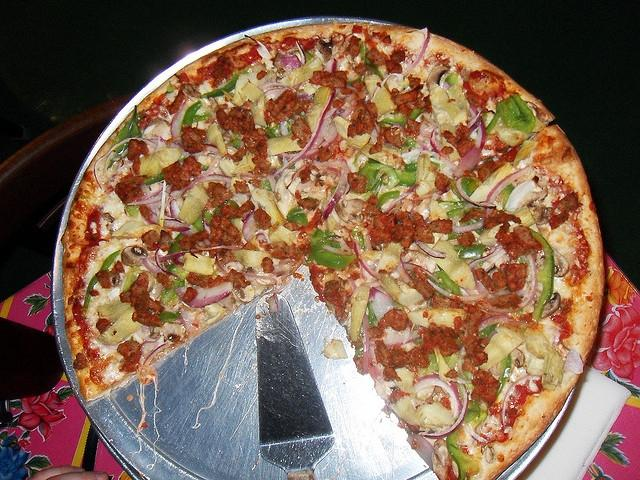onion: (260, 58, 337, 181), (478, 254, 536, 312), (94, 137, 158, 188), (422, 384, 468, 440), (484, 165, 530, 220), (413, 374, 463, 421), (502, 375, 540, 431), (392, 28, 430, 80), (180, 150, 221, 197), (426, 274, 488, 301), (174, 282, 233, 308), (158, 245, 242, 261), (456, 176, 496, 208), (323, 175, 348, 221), (406, 434, 436, 472), (382, 183, 418, 213), (354, 241, 381, 280), (453, 145, 482, 178), (368, 287, 394, 323), (467, 244, 502, 270), (414, 113, 438, 150), (171, 101, 189, 148), (155, 248, 181, 279), (403, 263, 439, 283), (127, 186, 163, 206), (430, 126, 450, 160), (479, 315, 518, 331), (144, 343, 170, 366), (452, 216, 484, 234), (413, 240, 445, 258), (242, 210, 258, 244), (362, 312, 370, 374), (564, 350, 584, 374), (141, 334, 161, 357), (386, 336, 422, 348), (396, 262, 414, 284), (143, 259, 167, 275), (280, 54, 301, 72), (158, 180, 166, 227), (264, 88, 287, 103), (199, 174, 232, 184), (459, 286, 476, 304), (470, 427, 488, 443), (476, 121, 486, 149), (496, 252, 510, 271), (332, 107, 352, 118), (369, 341, 376, 366), (369, 366, 382, 379), (255, 232, 268, 244)
